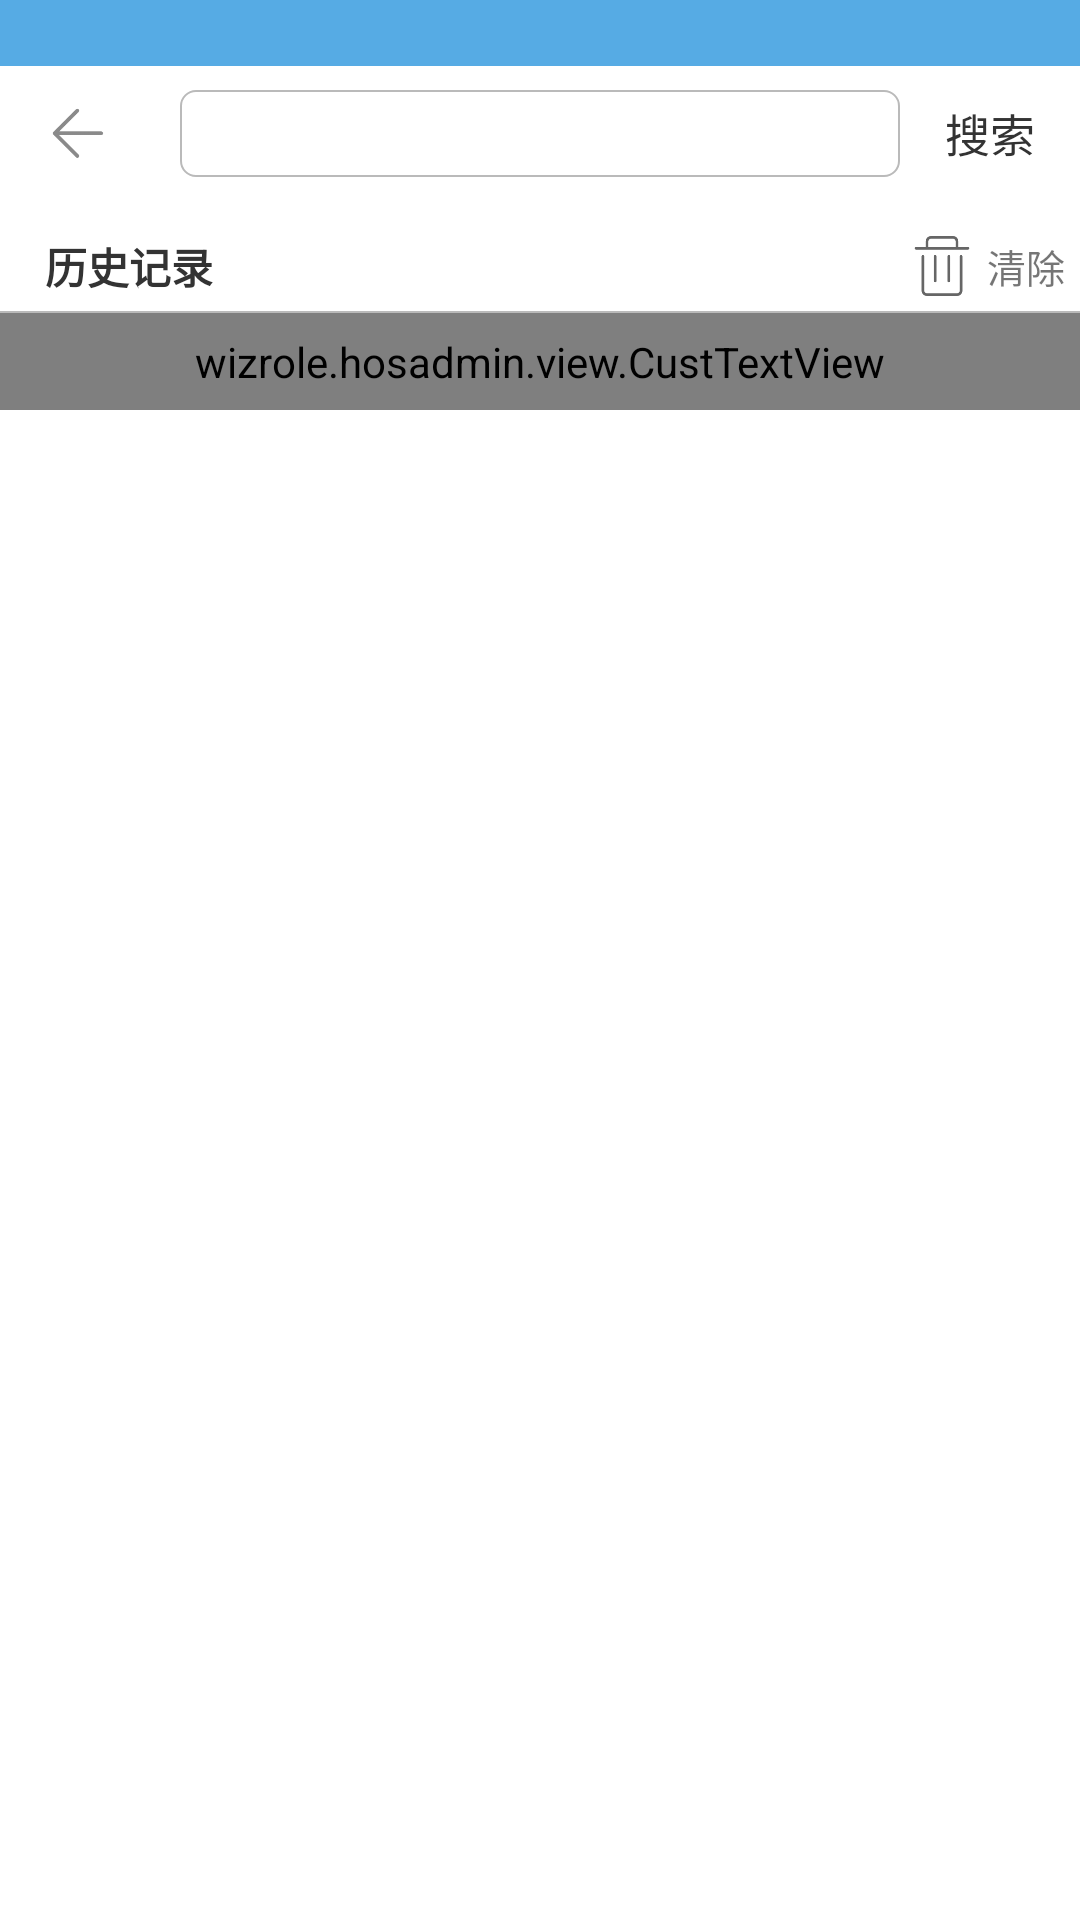

Icon click points for this 1080×1920 phone screenshot, format point (x, y):
del: point (942, 266)
search back: point (78, 133)
